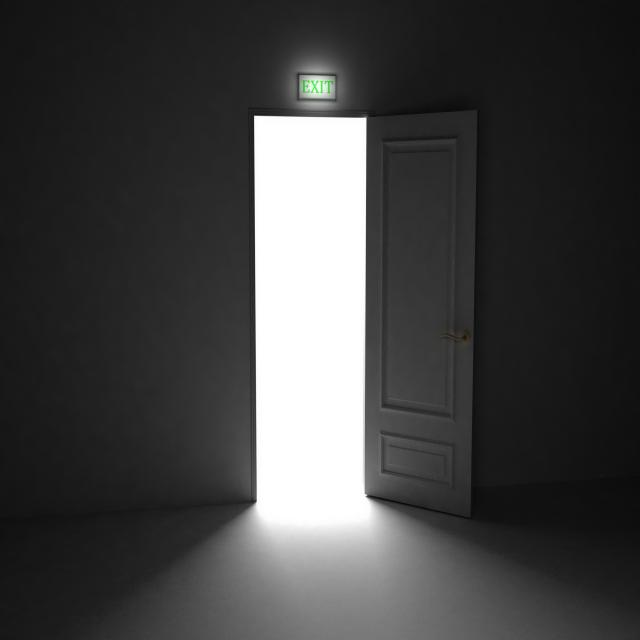open: (253, 114, 470, 520)
